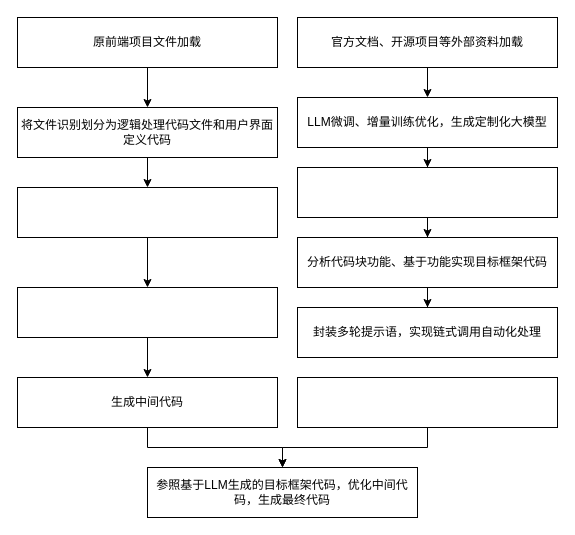
Some shapes in this 575 by 535 pixel diagram are drawn without their labels. The box of each missing label's shape, as (x1, y1, x2, y2) in pixels:
代码内容合并为项目文件: (296, 376, 558, 428)
基于语义分析和AST模型实现代码重写器: (16, 286, 278, 338)
提示语多轮输入提取上下文信息、分割代码文件: (296, 166, 558, 218)
词法分析、语法分析并生成AST，进行语义分析: (16, 186, 278, 238)
